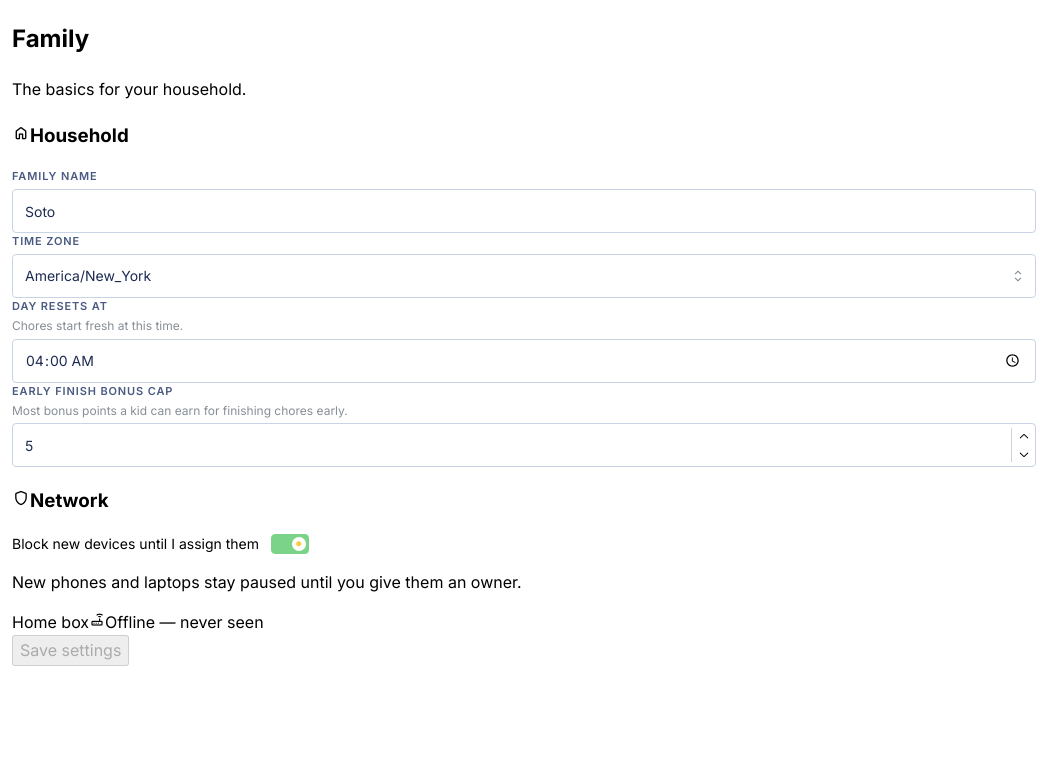
Test: settings › Save is disabled until something changes
Check: the button "Save settings" is disabled, box [12,635,129,666]
Type "x" into the field labelled "Family name" at (524, 211), box [12,189,1036,233]
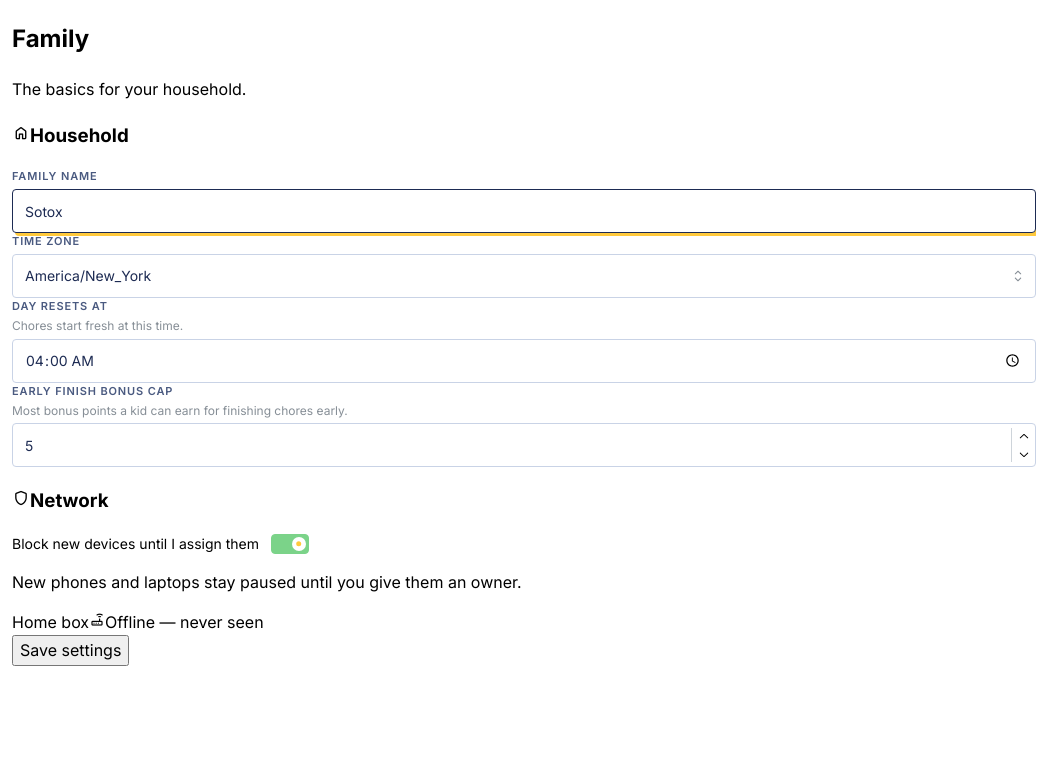
Check: the button "Save settings" is enabled, box [12,635,129,666]
